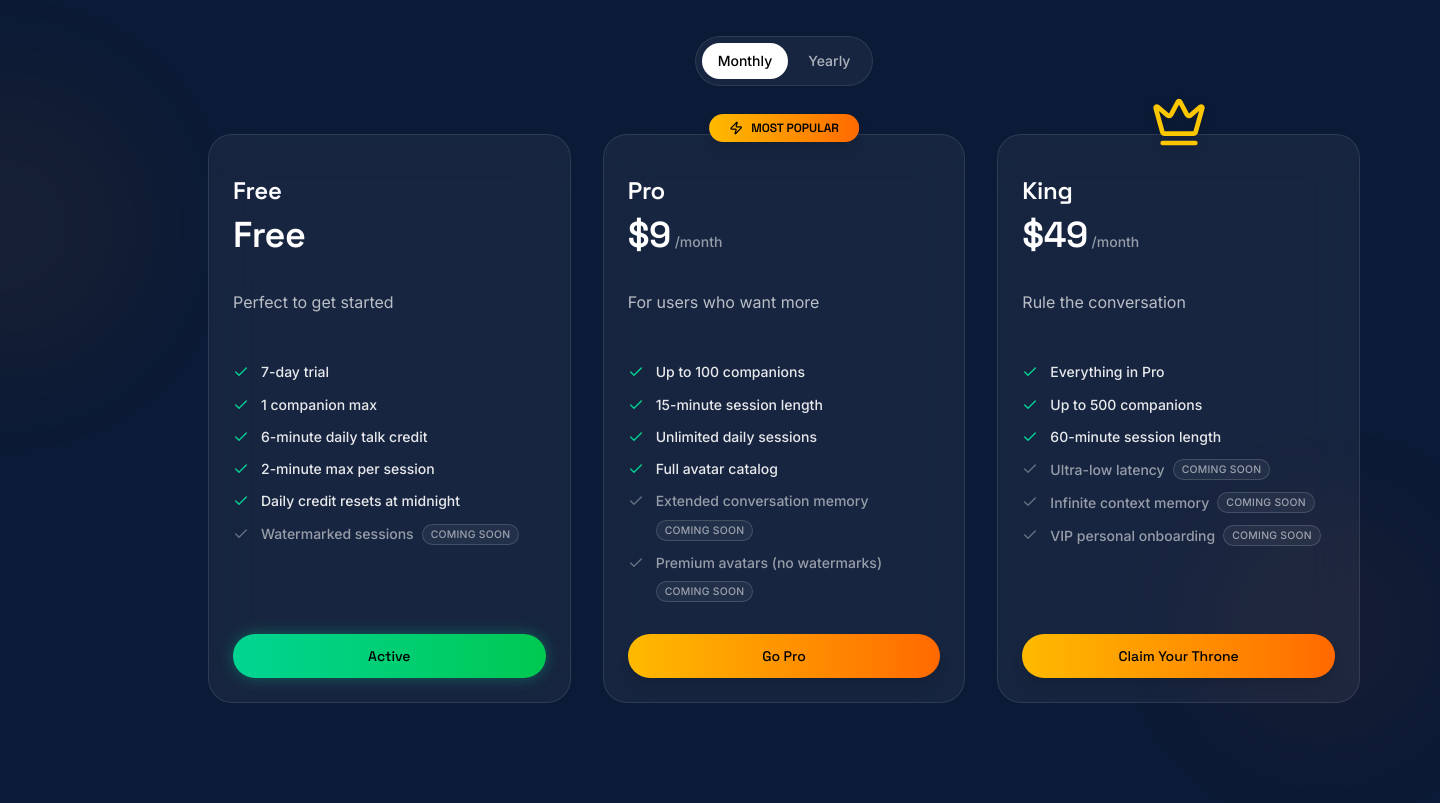
PricingPage › shows the King price before checkout
(page scrolled)
Step 1. Click the button "Claim Your Throne" → [1179, 656], box [1022,634,1335,678]
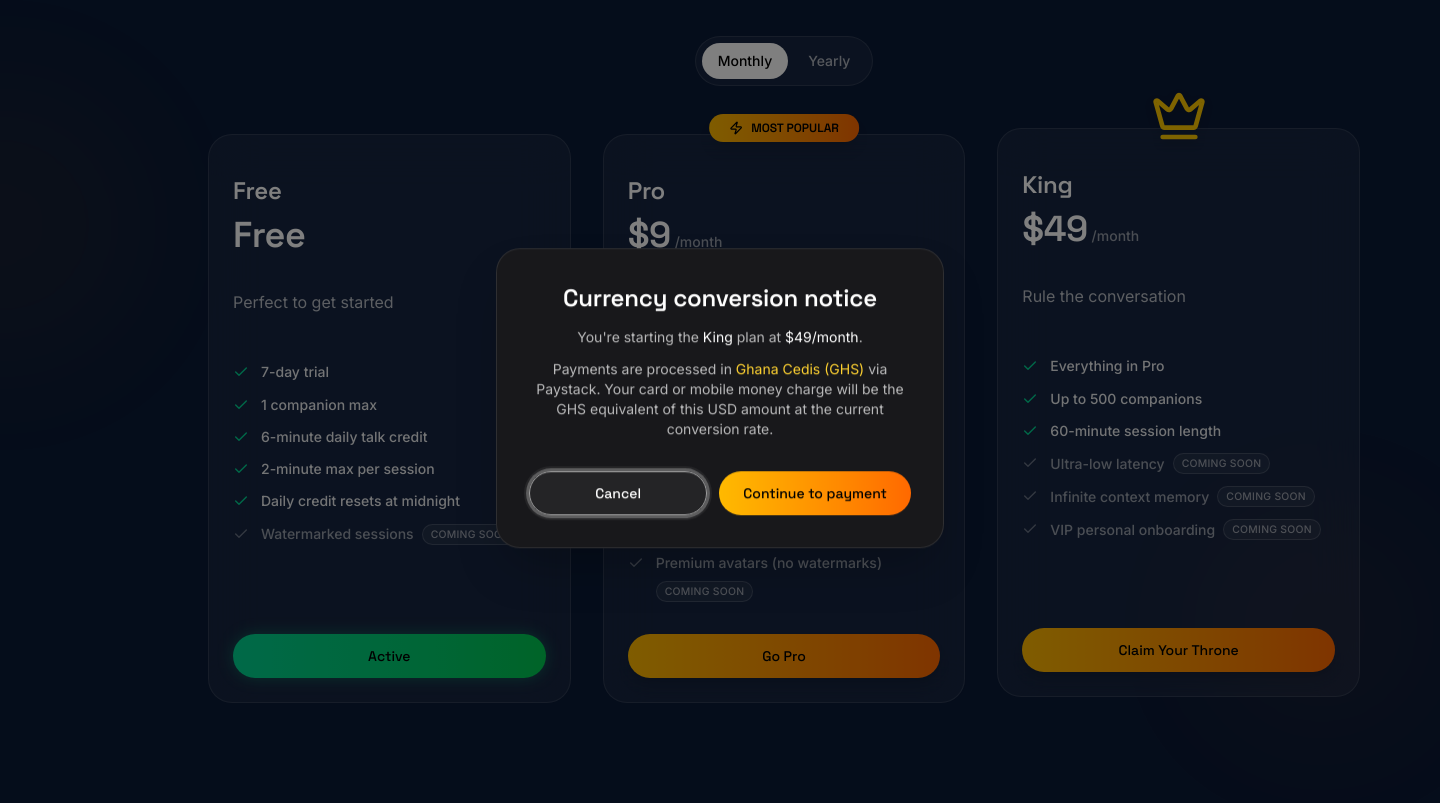
Expected: the text "$49/month" is shown, [785,328,859,345]
